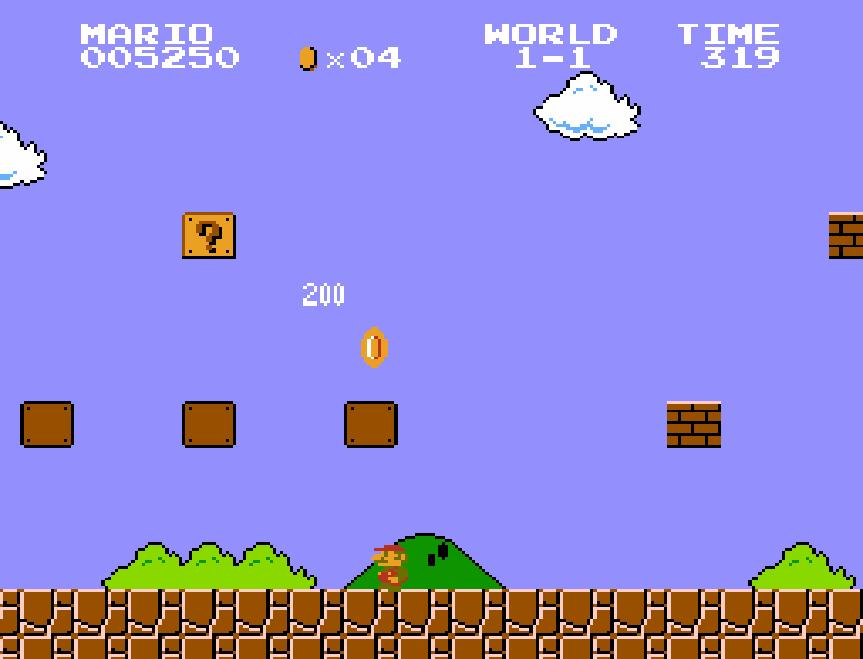little_mario: (362, 544, 420, 594)
